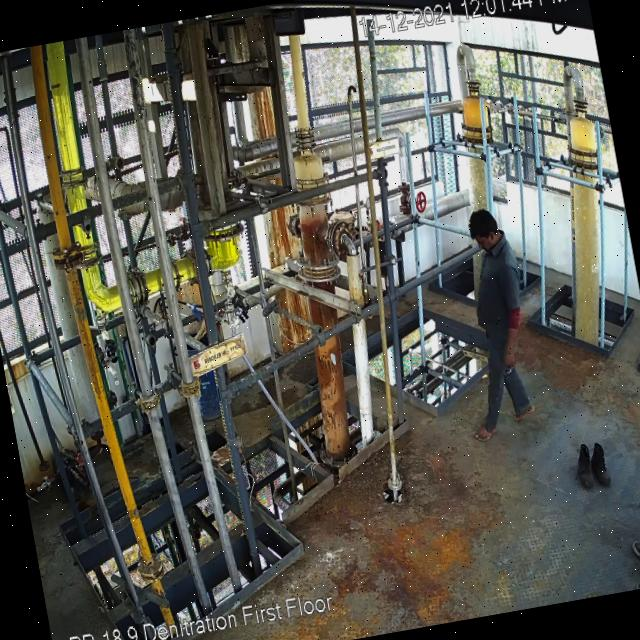boots: (571, 439, 601, 492), (588, 441, 614, 486)
no-boots: (510, 403, 540, 428), (472, 418, 496, 443)
